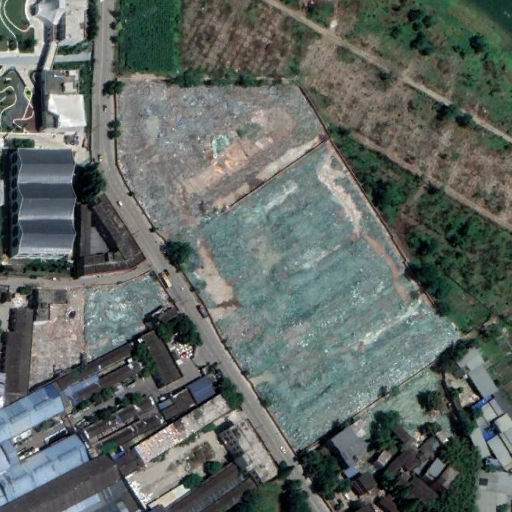cw: (116, 79, 460, 452), (26, 268, 165, 389)
